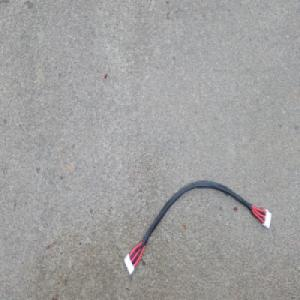Wire: (123, 177, 272, 275)
